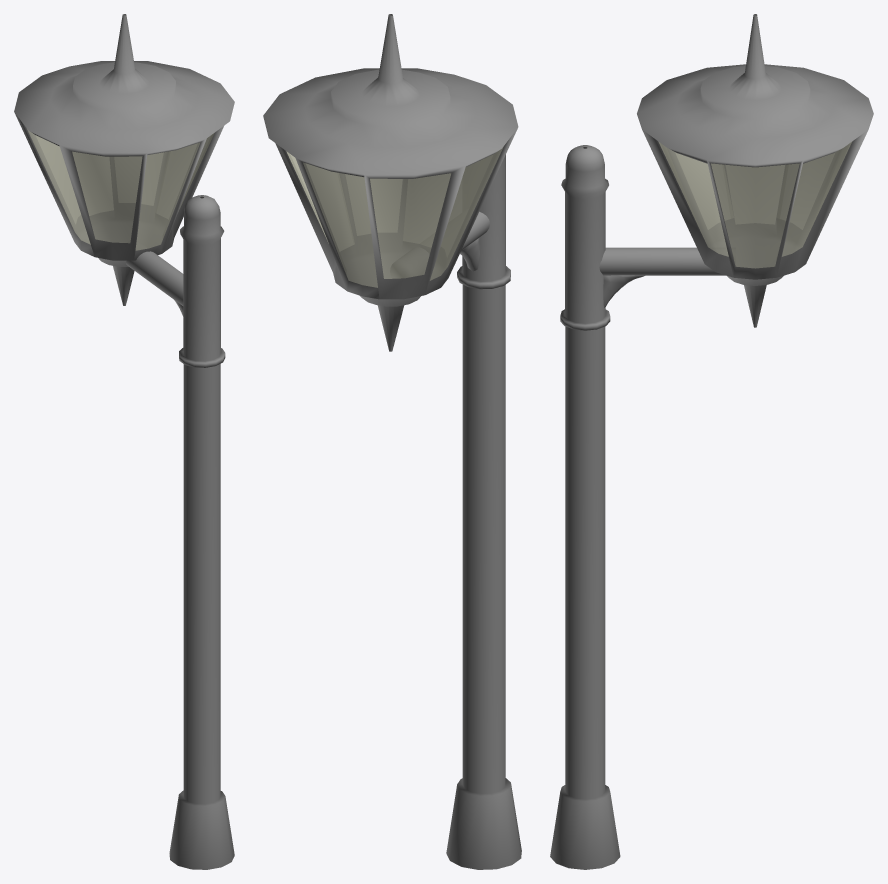
File: Street_lamp_1.fbx
The picture shows the model from 3 angles, left to right: view 1: azimuth 30°, elevation 25°; view 2: azimuth 150°, elevation 25°; view 3: azimuth 270°, elevation 25°; orthographic projection. The views are drawn at different scales.
Visible parts, largest first — view 1: polySurface5; view 2: polySurface5; view 3: polySurface5.
Boxes of the visible parts, box(x1,y1,x2,y2) form: polySurface5: box(14, 14, 234, 869); polySurface5: box(263, 14, 521, 869); polySurface5: box(550, 14, 873, 869).
Size of the model in its own units: 0.0858 by 0.3337 by 0.1165.
